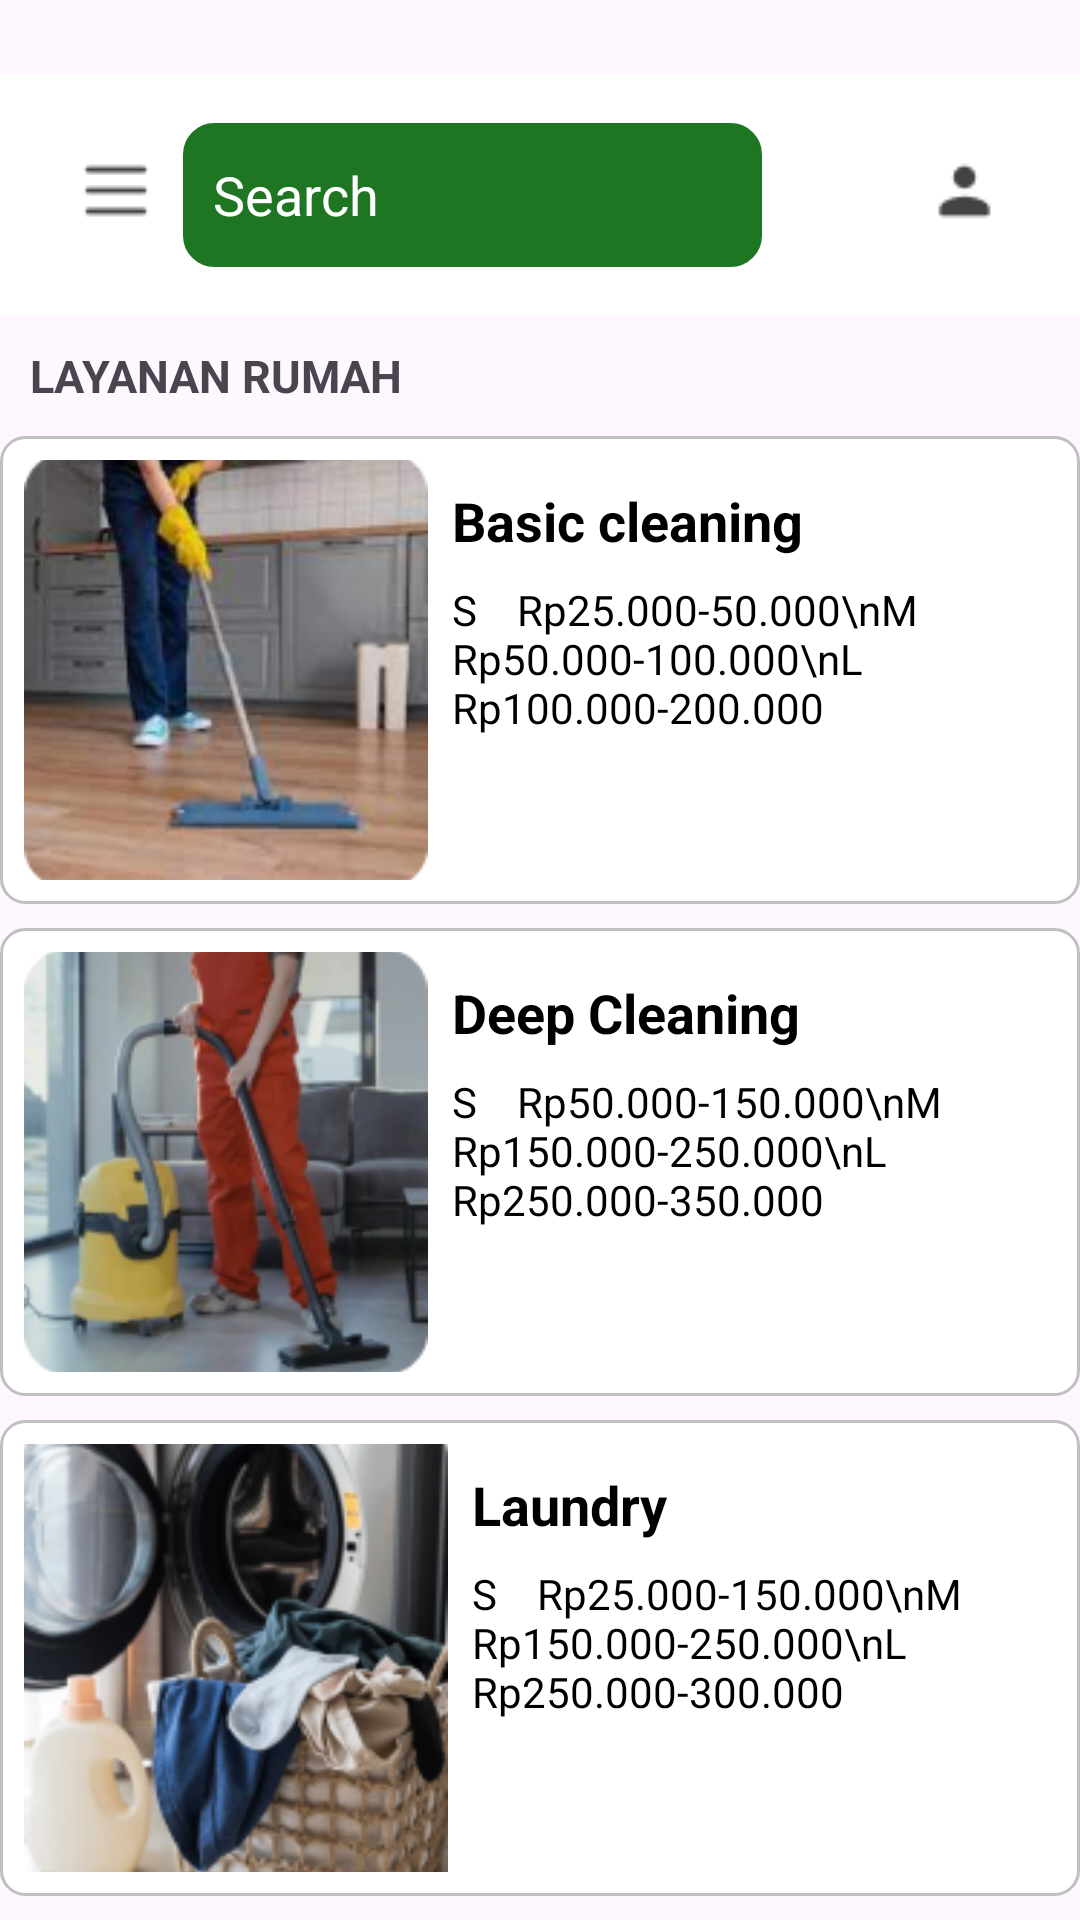

Named icons in this screenshot (1080*1920) and their bounding boxes, bbox(x1, y1, x2, y2):
menu: bbox(85, 165, 147, 216)
profile: bbox(938, 164, 991, 218)
